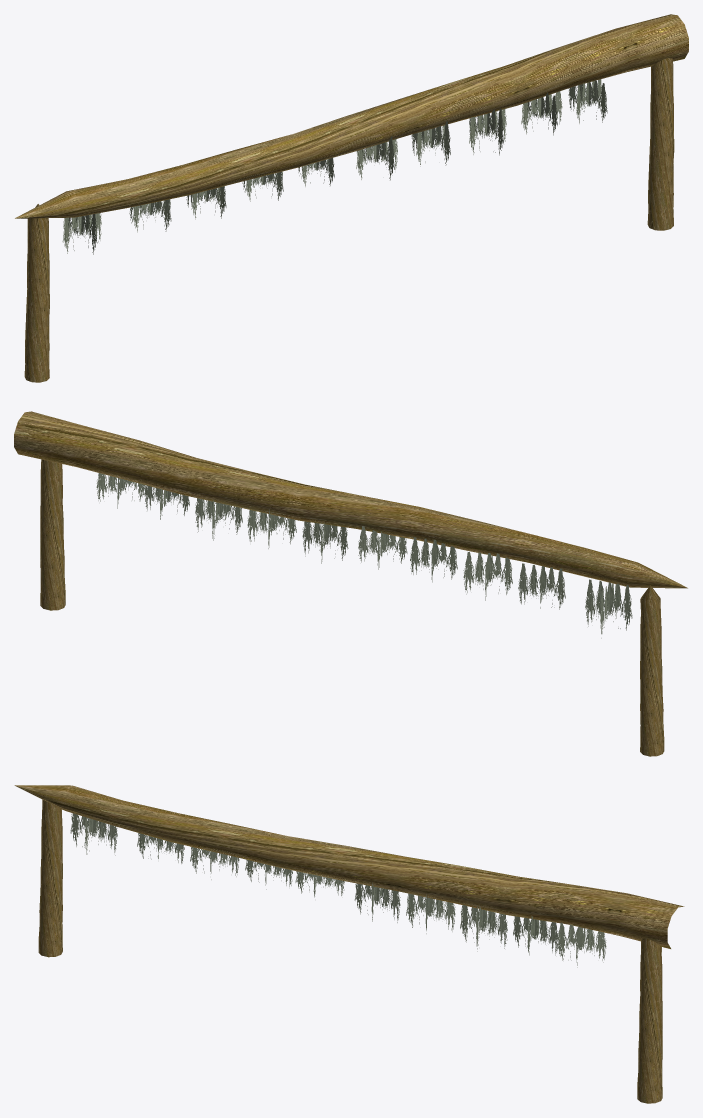
Rendered from moss_branch_overhead.glb.
3 views of the same model, one above another, from view 1: azimuth 30°, elevation 25°; view 2: azimuth 150°, elevation 25°; view 3: azimuth 330°, elevation 25° (orthographic). The views are drawn at different scales.
Visible parts, largest first — view 1: limb, moss; view 2: limb, moss; view 3: limb, moss.
Part boxes in pixels (<box>): limb: <box>15,14,688,382</box>; moss: <box>62,79,607,254</box>; limb: <box>14,411,687,756</box>; moss: <box>96,473,632,638</box>; limb: <box>14,785,684,1103</box>; moss: <box>70,813,606,967</box>.
Size of the model in its own units: 8.8 by 2.48 by 0.7896.
2 materials, 2 textured.
